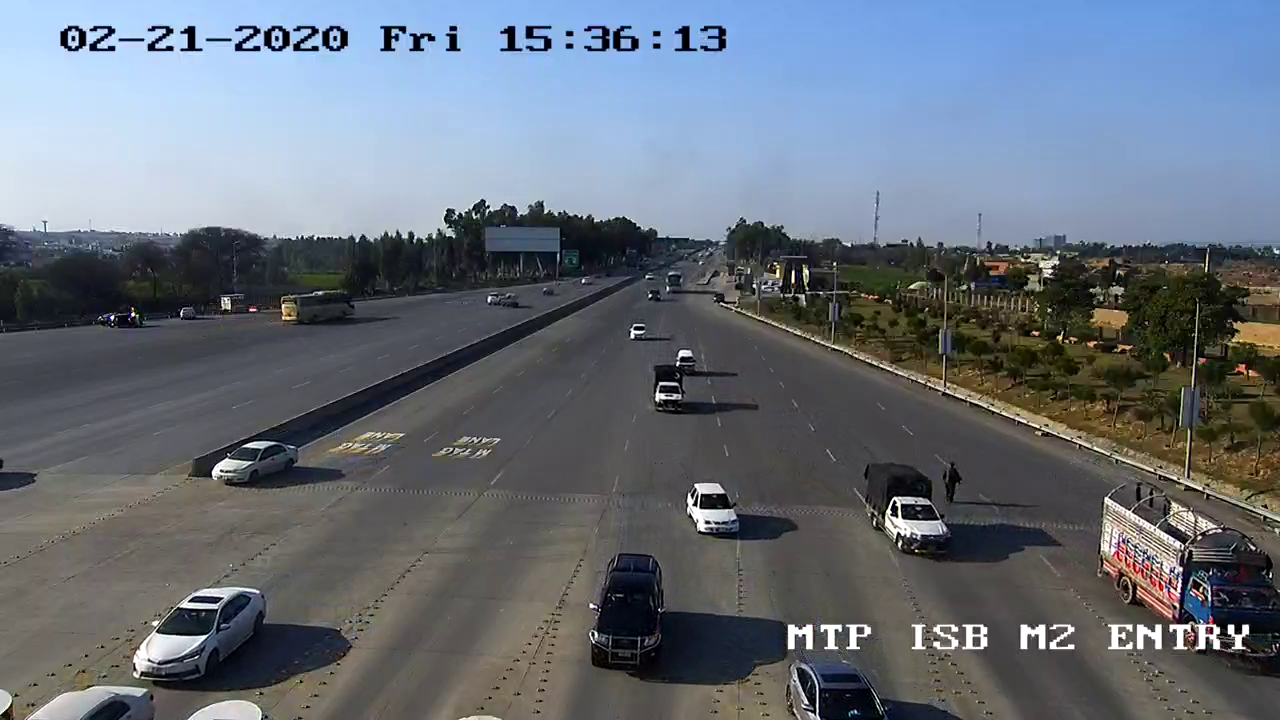f1: (125, 568, 272, 695), (575, 546, 679, 677), (203, 429, 305, 497), (674, 472, 746, 541)
f2: (842, 446, 966, 568)
